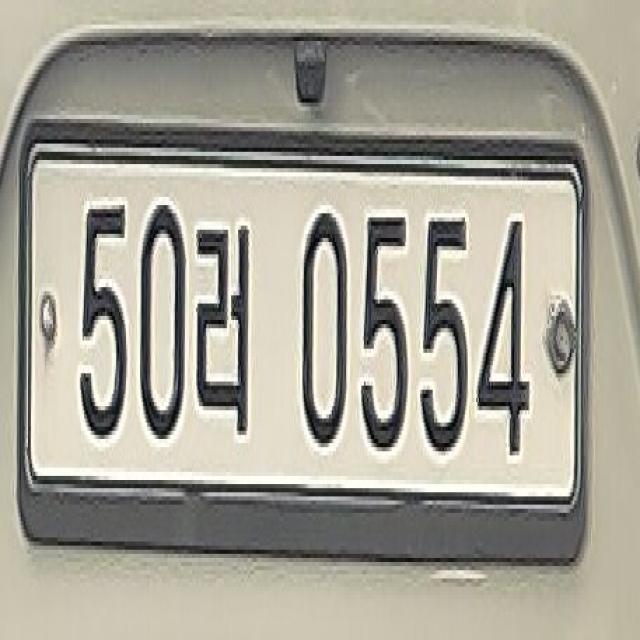0: (137, 196, 189, 460), (300, 205, 348, 448)
4: (475, 201, 542, 480)
5: (354, 198, 412, 473), (72, 183, 132, 448), (418, 208, 472, 466)
leo: (194, 208, 256, 454)
license_plate: (18, 127, 603, 590)
